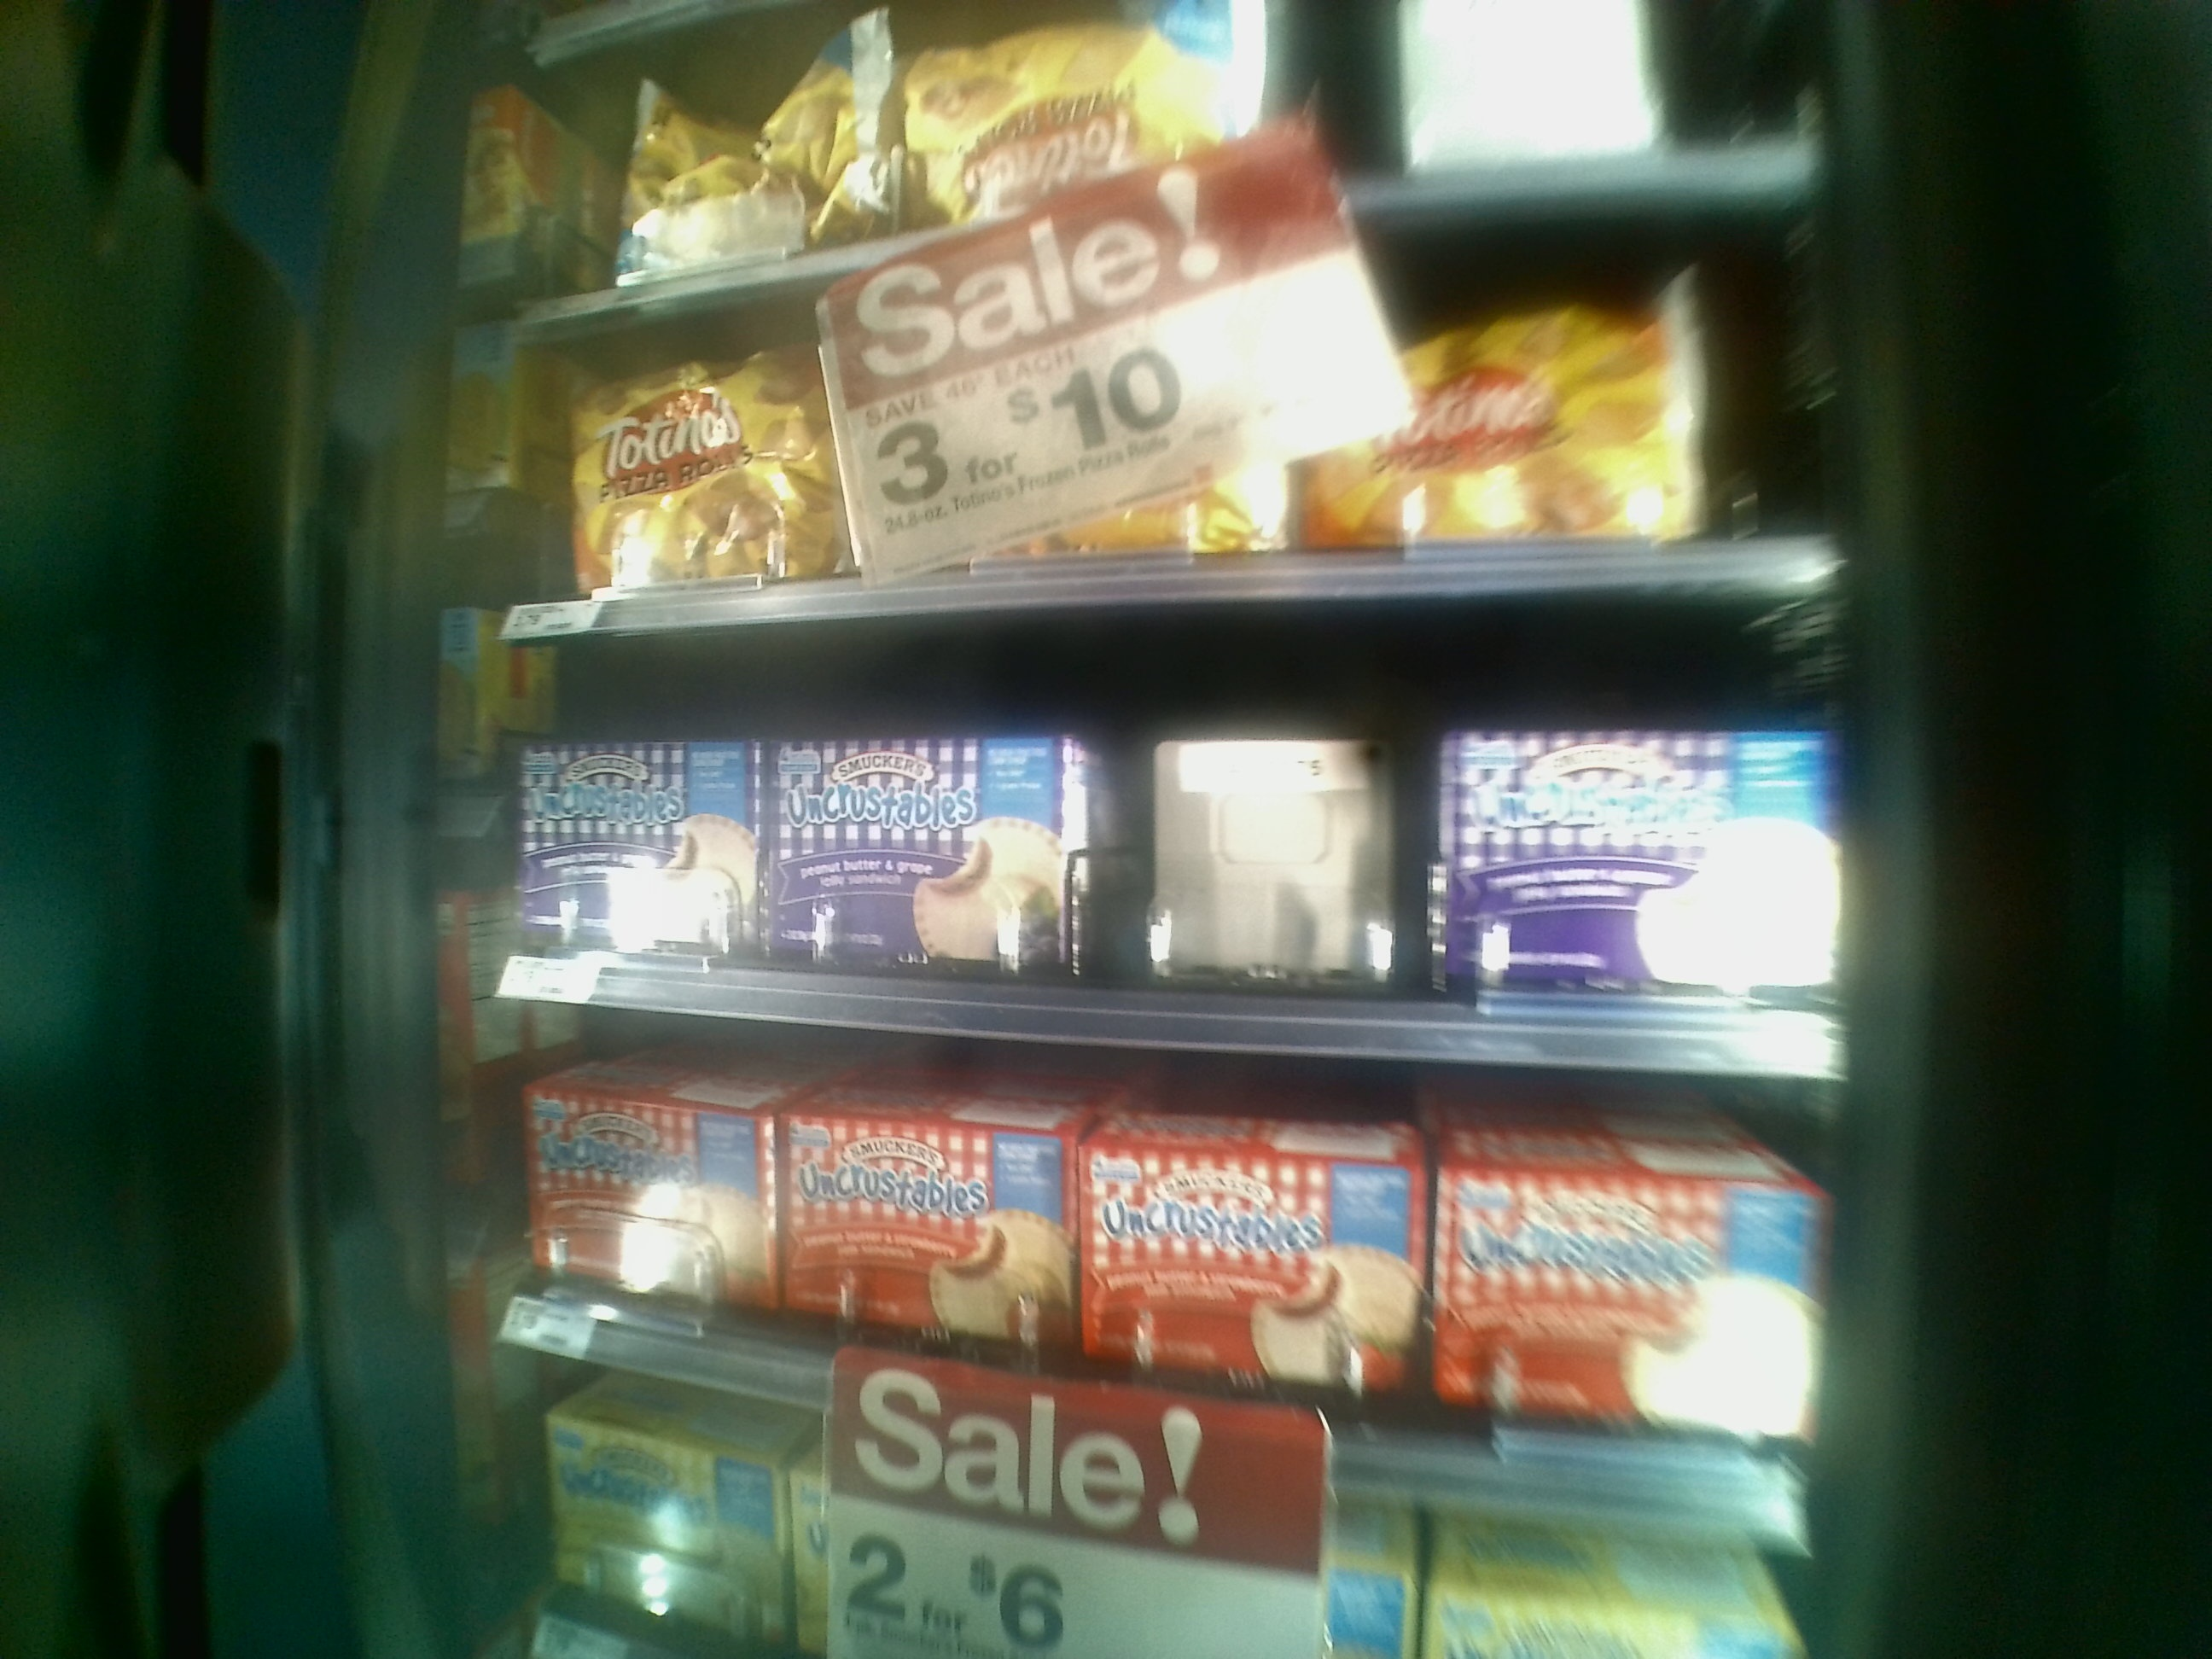shelf: (455, 1011, 1820, 1528), (460, 615, 1844, 1079), (505, 314, 1832, 594)
